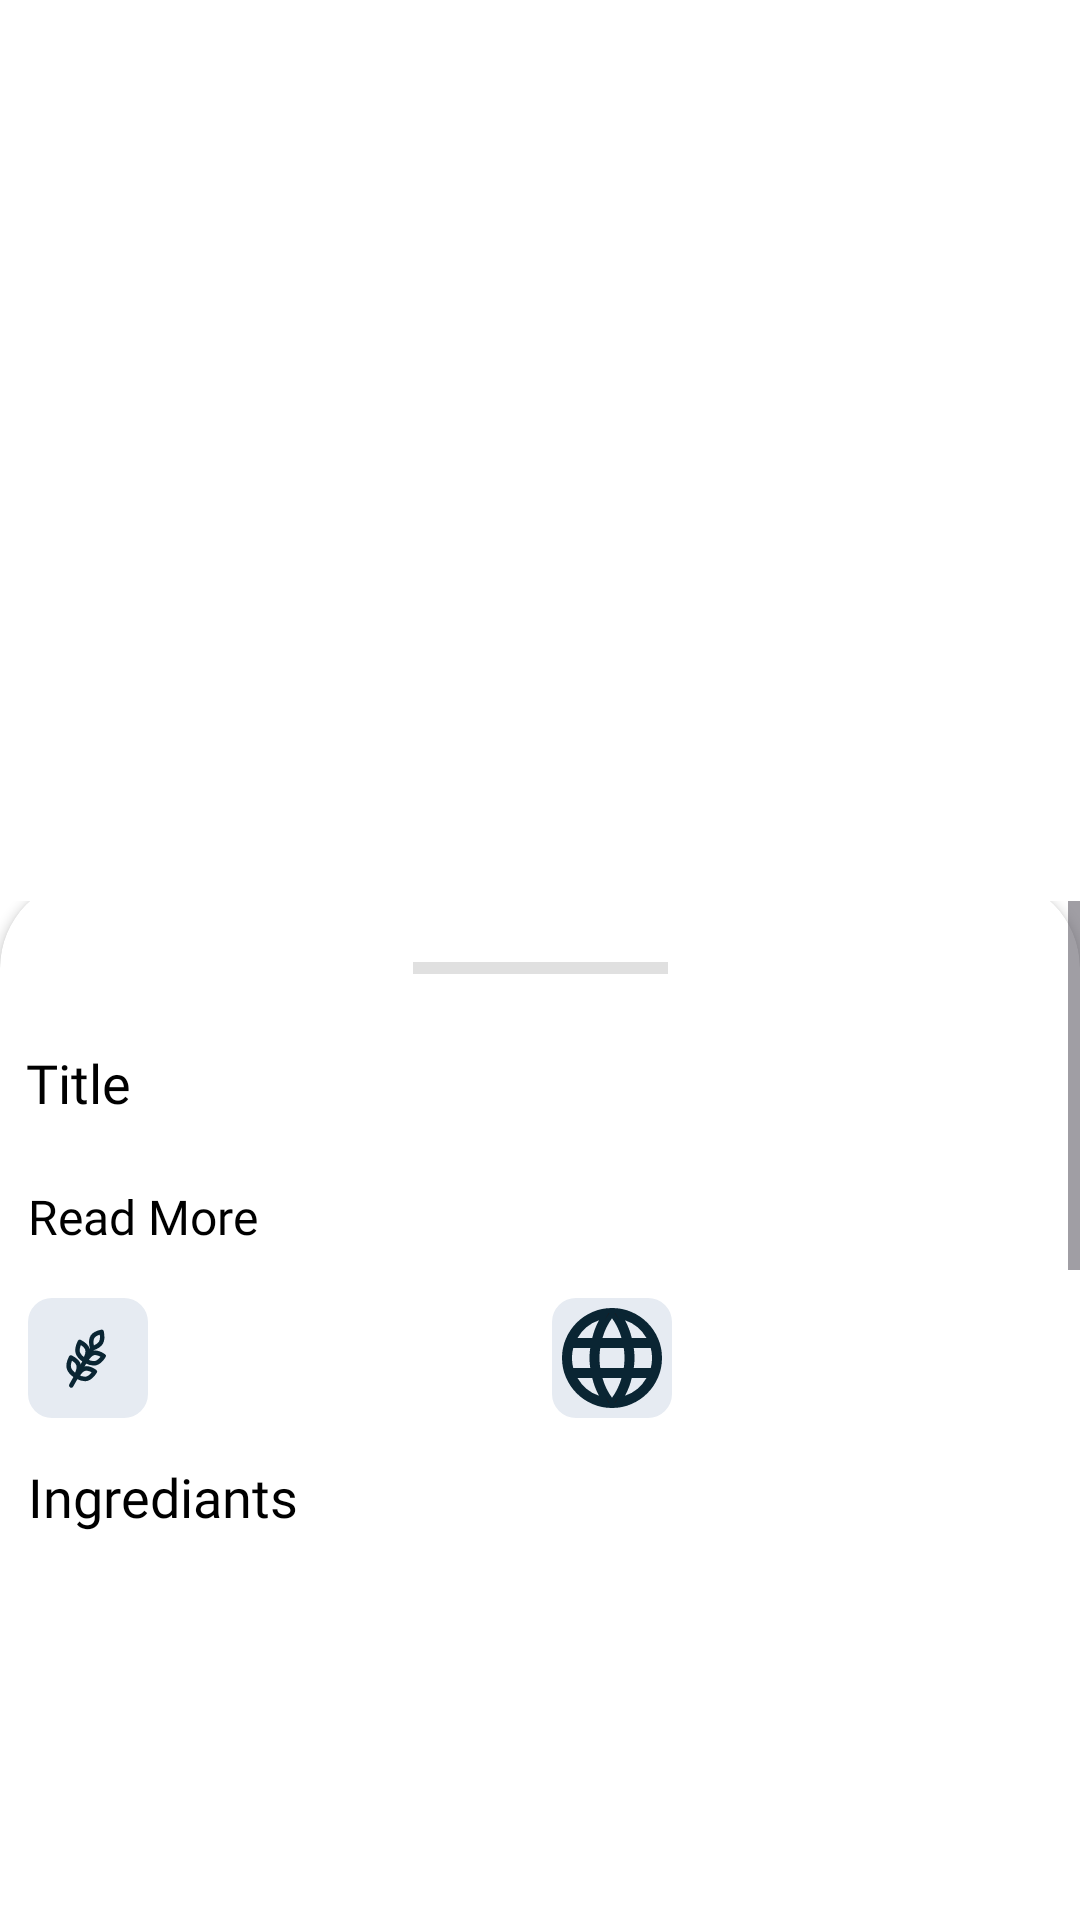

Screen size 1080w x 1920h. Icon name, then its center in pixels as (x=x, y=y):
area: (x=612, y=1358)
cutegory: (x=88, y=1358)
